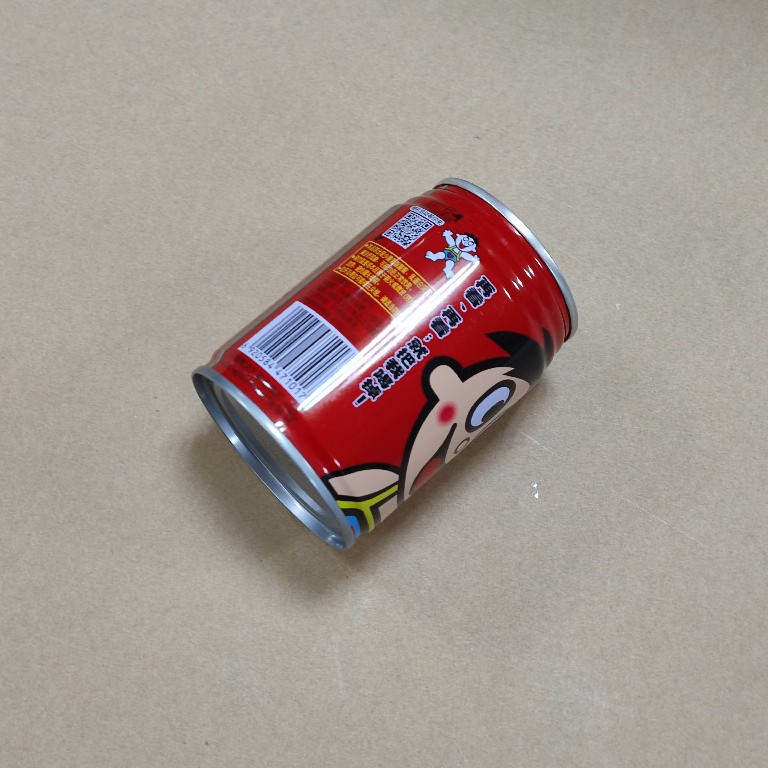can: (187, 175, 582, 556)
